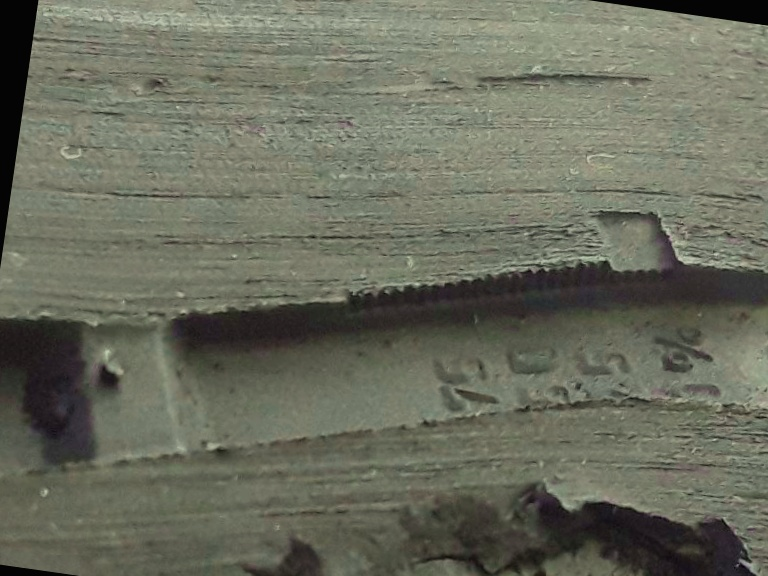temoin:0: (560, 181, 705, 334)
